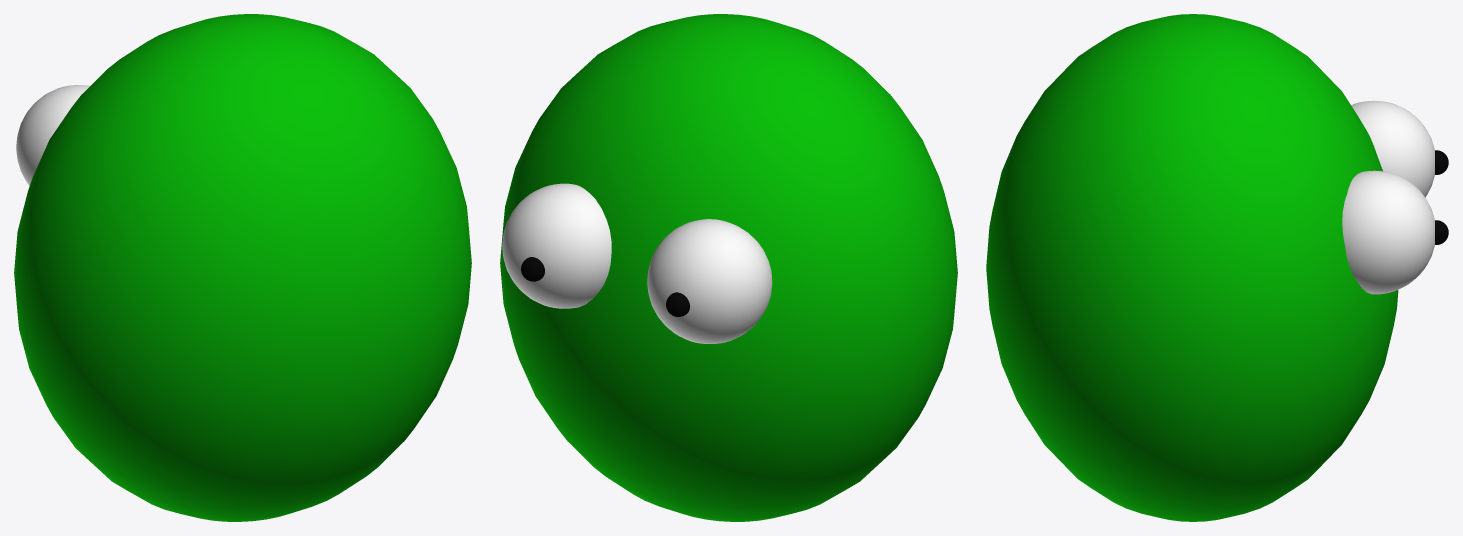
The model's file is puppet-green.glb.
3 renders of one model, left to right at view 1: azimuth 30°, elevation 25°; view 2: azimuth 150°, elevation 25°; view 3: azimuth 270°, elevation 25°, orthographic.
Bounding box in the file's own units: 0.9 × 1 × 0.894.
